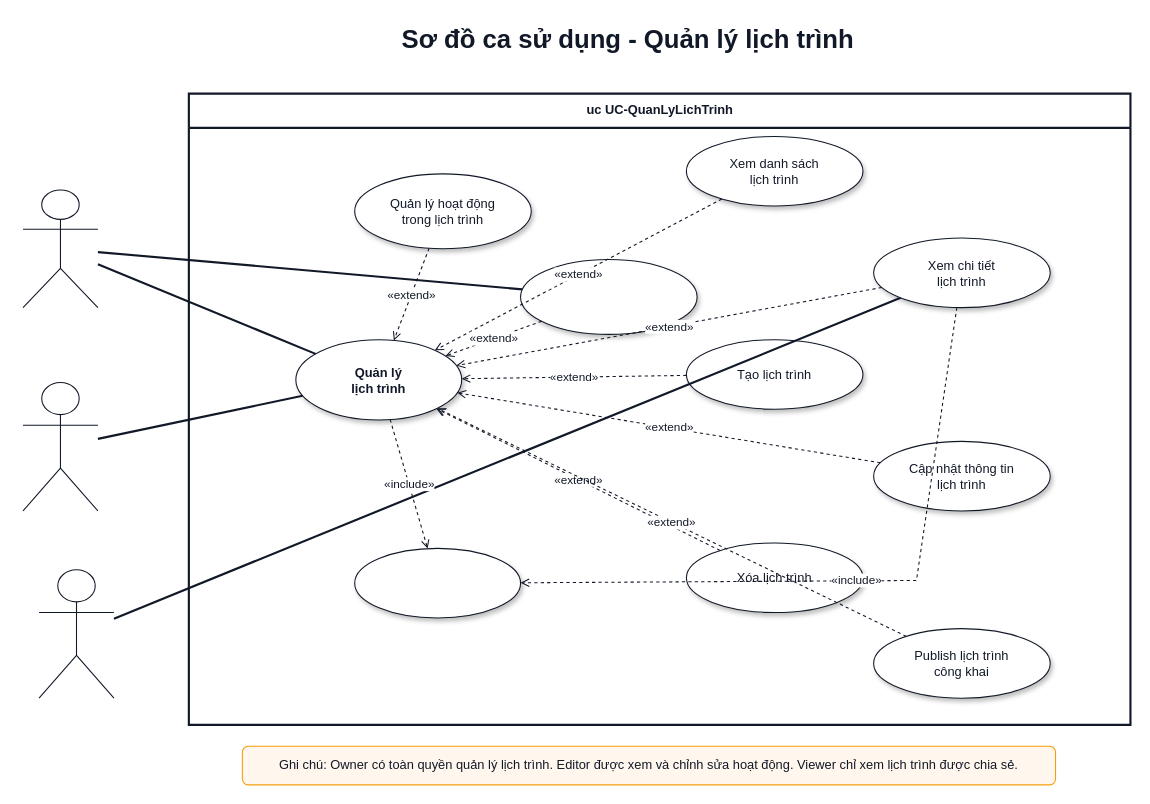
The diagram is 1150 pixels wide and 804 high, and some of its shapes have lost their labels. The shapes that lost their labels are listed below. From the top down, each one's centre as x and y in pixels, then its label:
(x=60, y=248): Chủ lịch trình
(x=609, y=298): Mời / quản lý cộng tác viên
(x=60, y=446): Cộng tác viên Editor
(x=438, y=584): Đăng nhập / xác thực quyền
(x=76, y=633): Cộng tác viên Viewer
